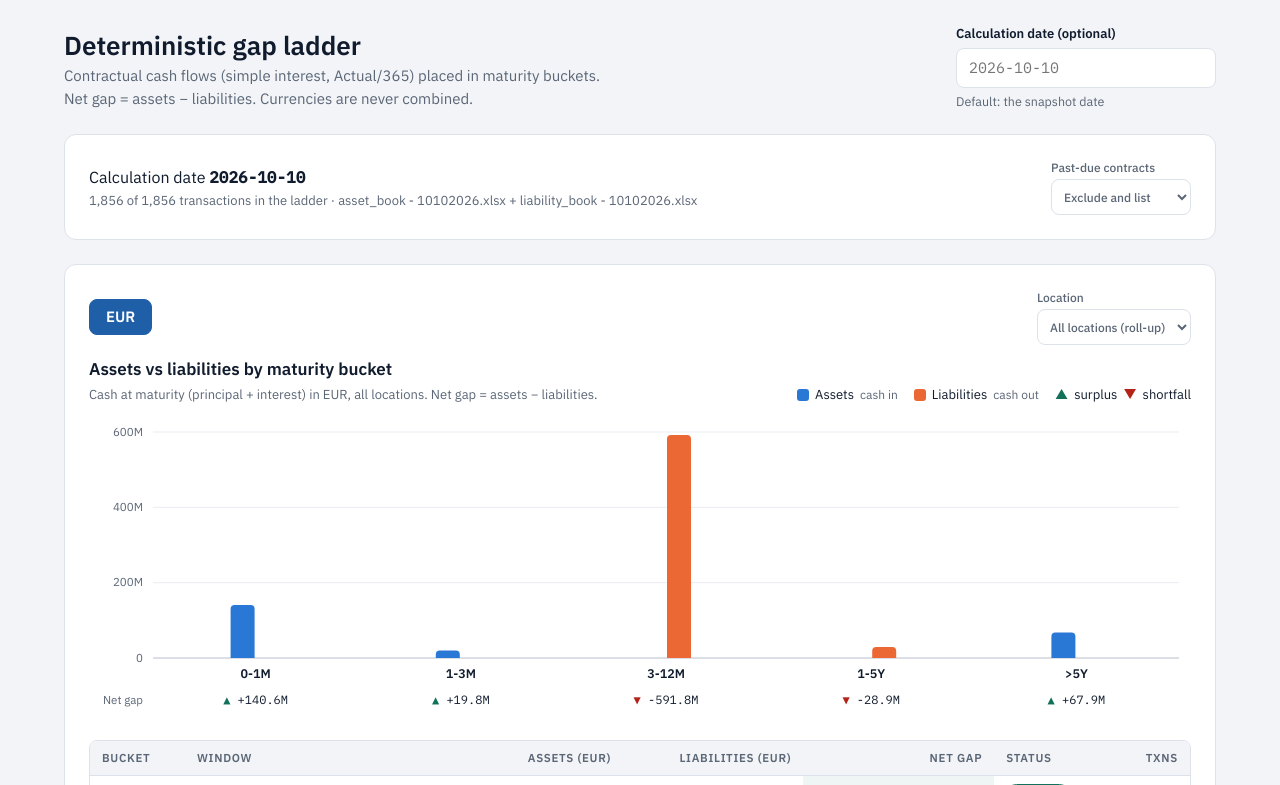
keeps the newest result when an older request answers last
Step 1. Select "Count in 0-1M" in the dropdown labelled "Past-due contracts" → (1121, 197), box [1051,179,1191,215]
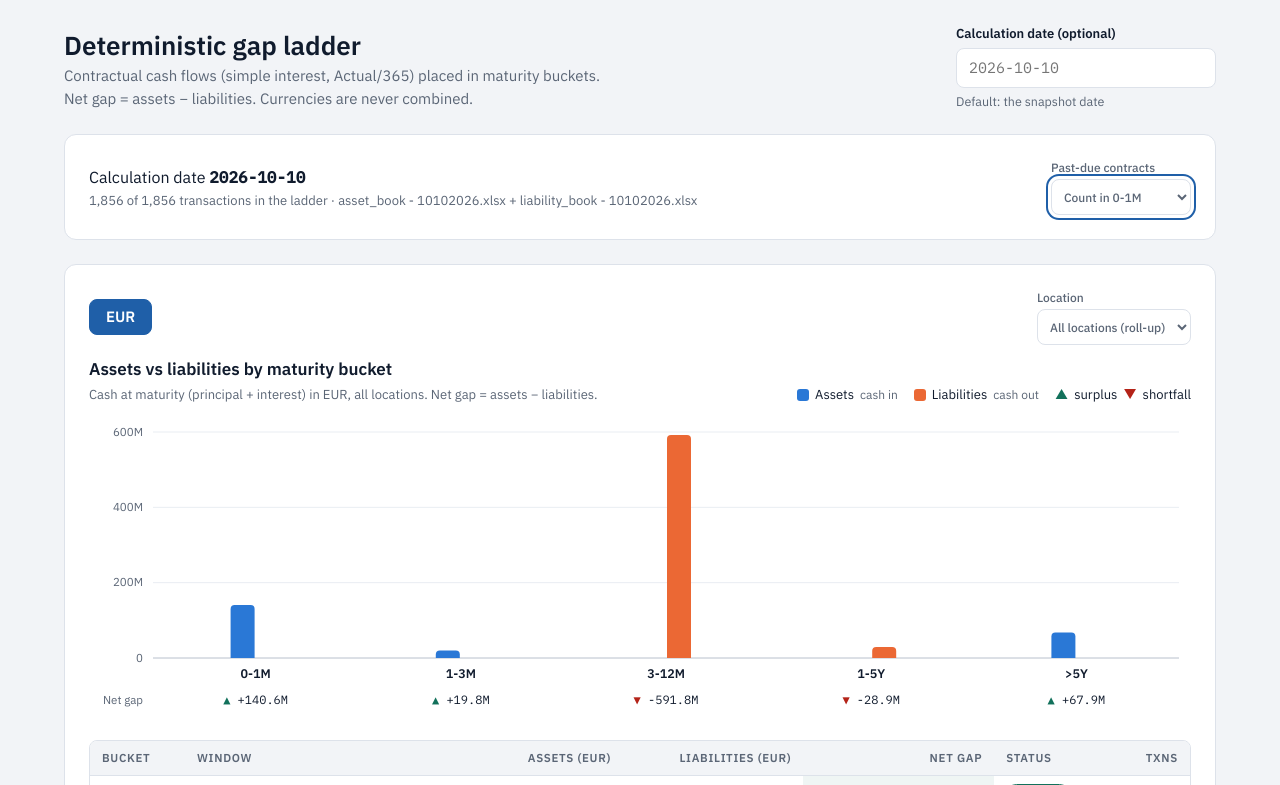
Step 2. Select "Exclude and list" in the dropdown labelled "Past-due contracts" → (1121, 197), box [1051,179,1191,215]
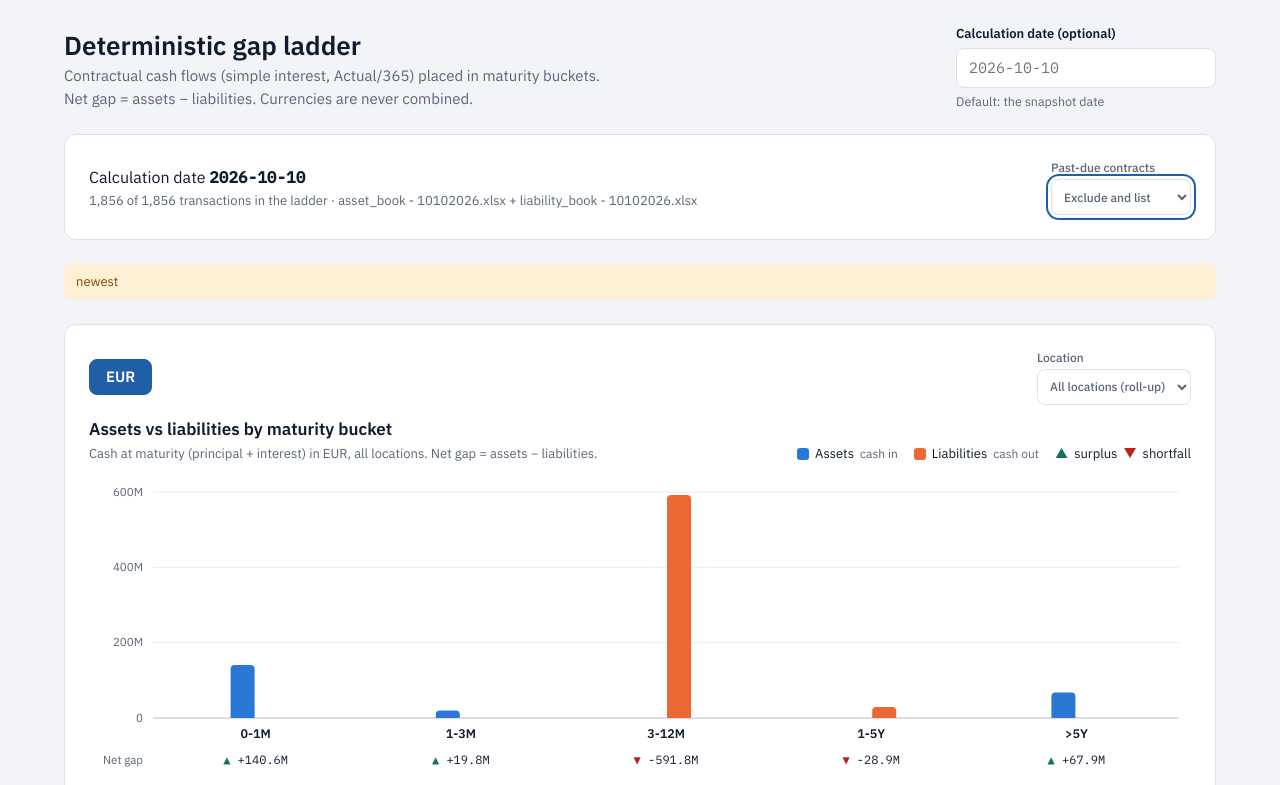
expect the text "newest" is shown: met, box [64,264,1216,300]
